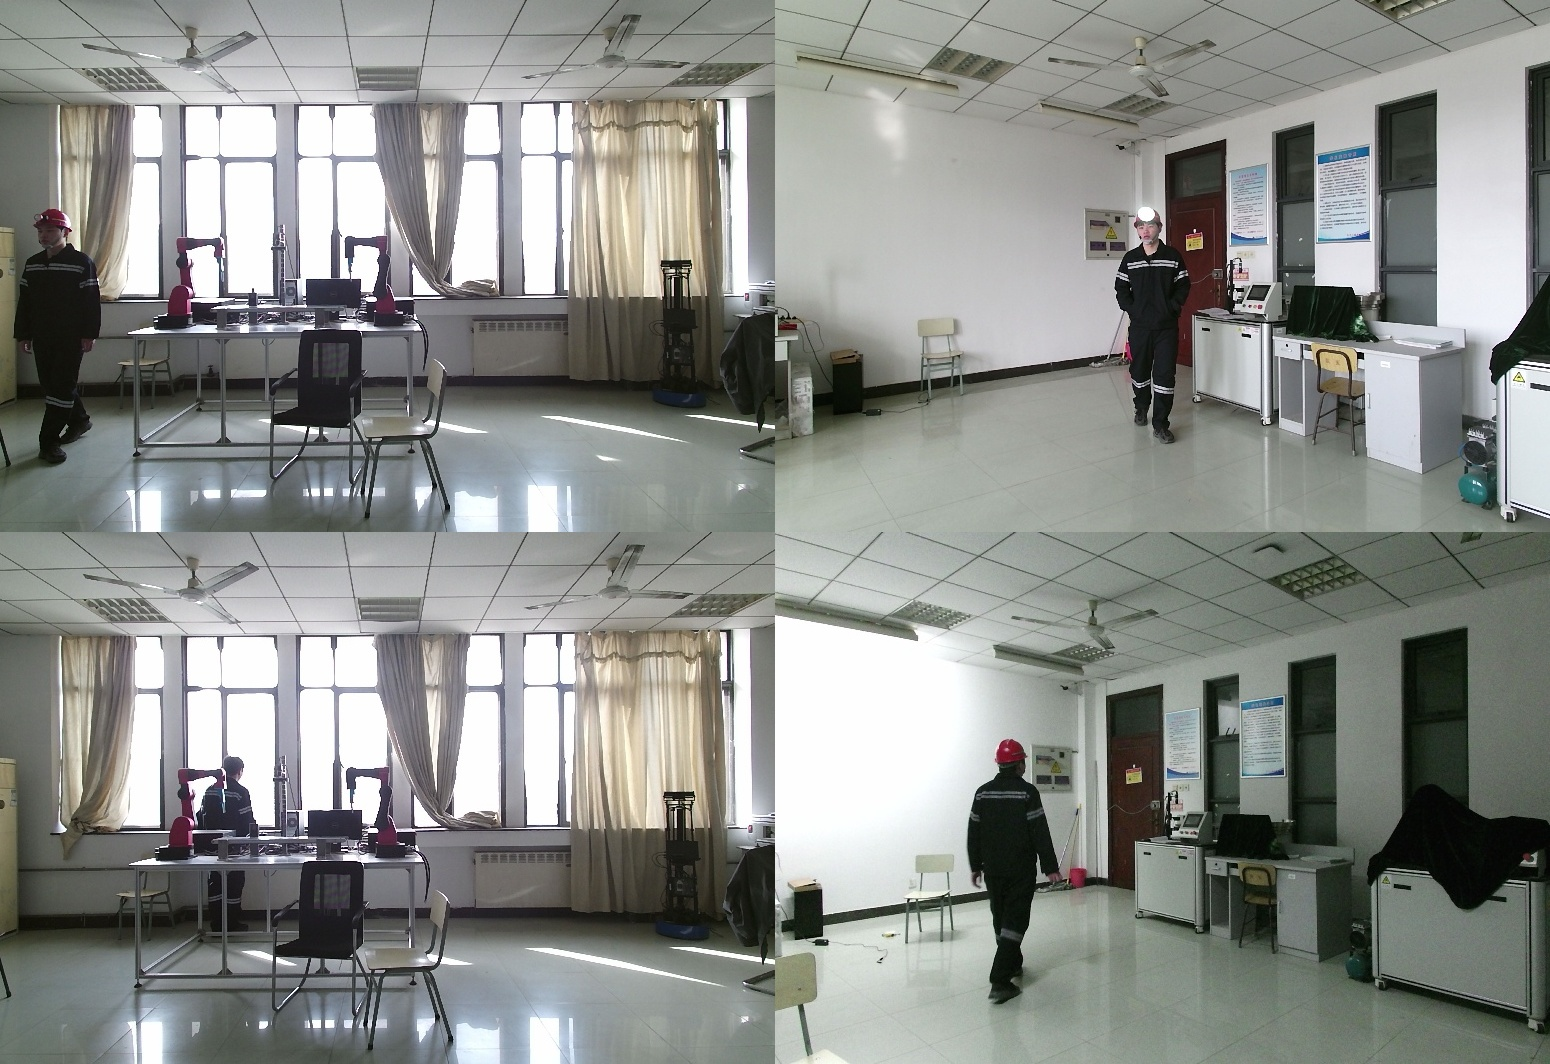person: (963, 739, 1061, 1002), (9, 207, 106, 465), (1114, 213, 1197, 442), (198, 760, 254, 949)
